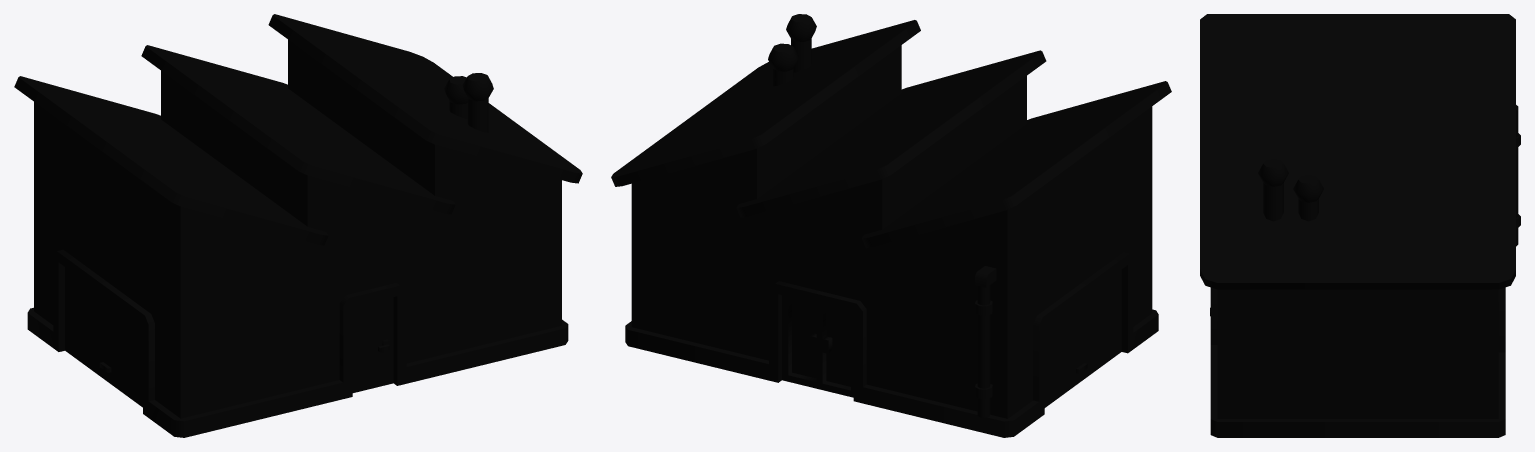
File: building-k.glb
3 renders of one model, left to right at view 1: azimuth 30°, elevation 25°; view 2: azimuth 150°, elevation 25°; view 3: azimuth 270°, elevation 25°, orthographic. The views are drawn at different scales.
Parts seen in each view (by area): view 1: building-k; view 2: building-k; view 3: building-k.
Boxes of the visible parts, x1,y1,x2,y2 form: building-k: (14,14,582,437); building-k: (611,14,1171,437); building-k: (1200,14,1520,437).
Size of the model in its own units: 1.3 by 0.7727 by 0.9136.
Materials: 1 (1 with a texture image).
